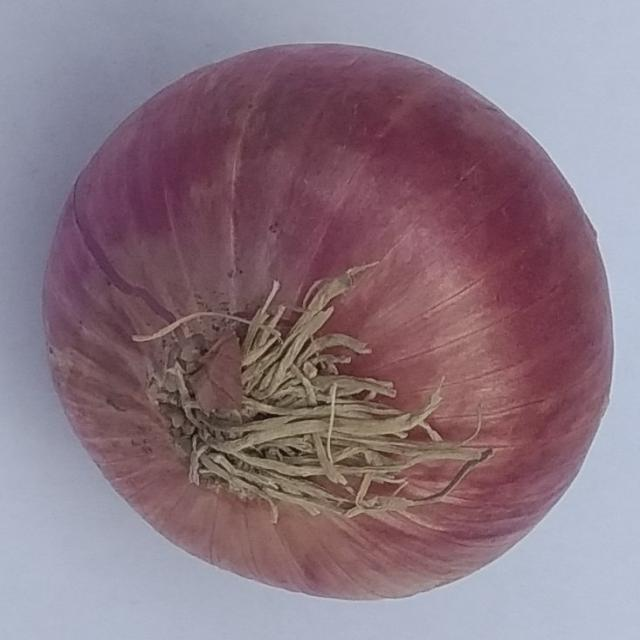onion: (40, 41, 616, 605)
